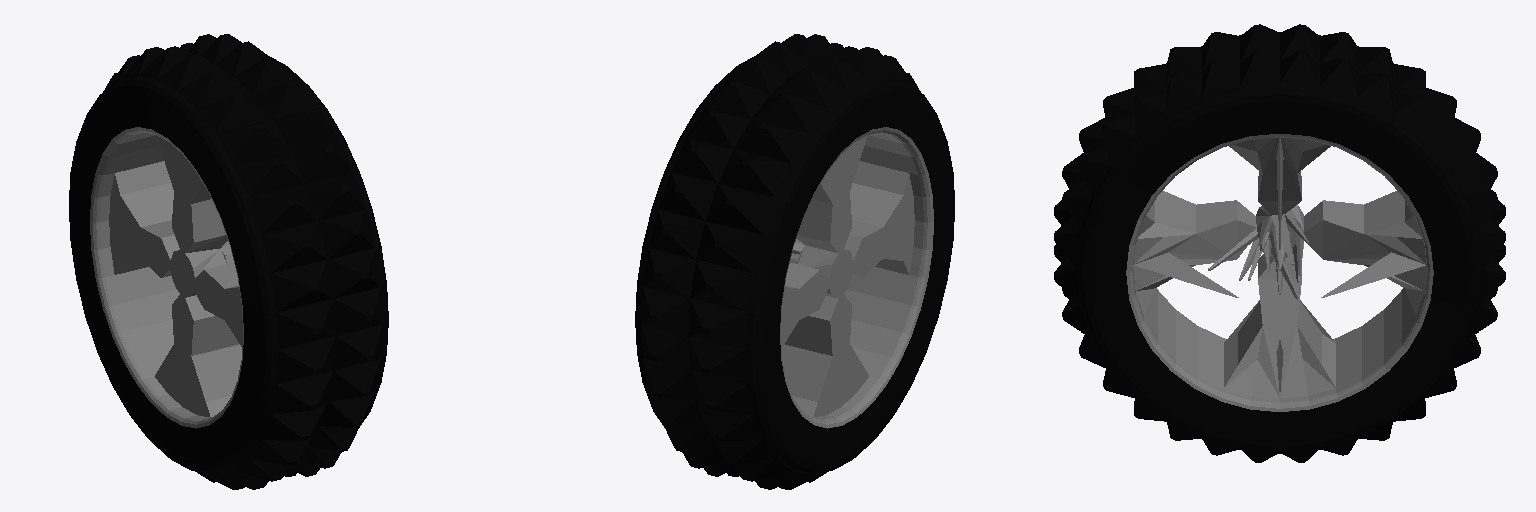
The model's file is monster_wheel.obj.
The picture shows the model from 3 angles: view 1: azimuth 30°, elevation 25°; view 2: azimuth 150°, elevation 25°; view 3: azimuth 270°, elevation 25°; orthographic projection.
Visible parts, largest first — view 1: Circle.001; view 2: Circle.001; view 3: Circle.001.
Boxes of the visible parts, x1=… form: Circle.001: x1=69, y1=34, x2=388, y2=489; Circle.001: x1=635, y1=34, x2=954, y2=489; Circle.001: x1=1054, y1=24, x2=1505, y2=462.
Size of the model in its own units: 1.15 by 2.5 by 2.5.